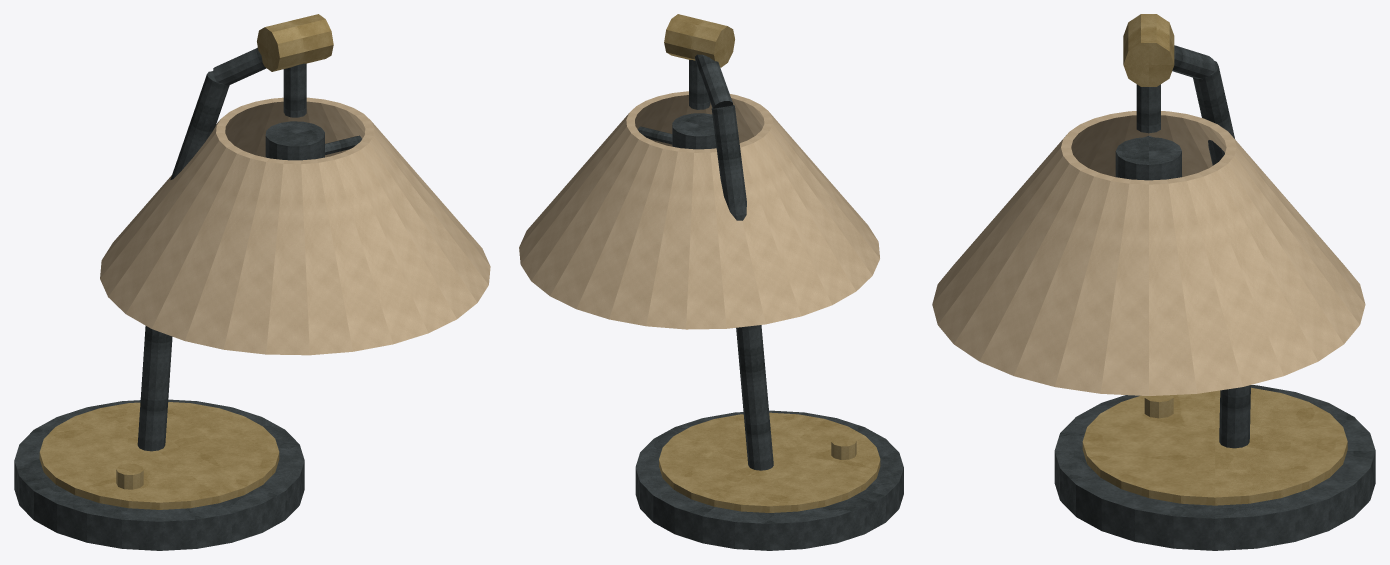
The model's file is ProjectZ_BED26_AdjustableReadingLamp.glb.
The picture shows the model from 3 angles, left to right: view 1: azimuth 30°, elevation 25°; view 2: azimuth 150°, elevation 25°; view 3: azimuth 270°, elevation 25°; orthographic projection. The views are drawn at different scales.
Visible parts, largest first — view 1: RENDER_Lamp_LinenShadedConicalHollowShell, RENDER_Lamp_Base_TrimRing, RENDER_Lamp_WeightedRoundBase, RENDER_Lamp_BrushedSteelVerticalStem, RENDER_Lamp_HingeThroughPin, RENDER_Lamp_Gooseneck_Mid, RENDER_Lamp_Socket_InsideShade, RENDER_Lamp_ShadeStem, RENDER_Lamp_Gooseneck_End, RENDER_Lamp_ToggleButton_Brass; view 2: RENDER_Lamp_LinenShadedConicalHollowShell, RENDER_Lamp_Base_TrimRing, RENDER_Lamp_WeightedRoundBase, RENDER_Lamp_BrushedSteelVerticalStem, RENDER_Lamp_HingeThroughPin, RENDER_Lamp_Gooseneck_Mid, RENDER_Lamp_Socket_InsideShade, RENDER_Lamp_Gooseneck_End, RENDER_Lamp_ShadeStem, RENDER_Lamp_ToggleButton_Brass; view 3: RENDER_Lamp_LinenShadedConicalHollowShell, RENDER_Lamp_Base_TrimRing, RENDER_Lamp_WeightedRoundBase, RENDER_Lamp_HingeThroughPin, RENDER_Lamp_Socket_InsideShade, RENDER_Lamp_BrushedSteelVerticalStem, RENDER_Lamp_Gooseneck_Mid, RENDER_Lamp_ShadeStem, RENDER_Lamp_Gooseneck_End, RENDER_Lamp_ToggleButton_Brass.
Part boxes in pixels (x1,y1,x2,y2): RENDER_Lamp_LinenShadedConicalHollowShell: (100,97,490,355); RENDER_Lamp_Base_TrimRing: (39,402,279,509); RENDER_Lamp_WeightedRoundBase: (14,399,304,550); RENDER_Lamp_BrushedSteelVerticalStem: (137,326,172,451); RENDER_Lamp_HingeThroughPin: (257,14,333,71); RENDER_Lamp_Gooseneck_Mid: (170,71,229,179); RENDER_Lamp_Socket_InsideShade: (265,121,324,160); RENDER_Lamp_ShadeStem: (283,63,306,117); RENDER_Lamp_Gooseneck_End: (213,47,266,85); RENDER_Lamp_ToggleButton_Brass: (116,463,143,489); RENDER_Lamp_LinenShadedConicalHollowShell: (519,91,879,329); RENDER_Lamp_Base_TrimRing: (659,412,880,512); RENDER_Lamp_WeightedRoundBase: (635,410,903,550); RENDER_Lamp_BrushedSteelVerticalStem: (736,325,773,470); RENDER_Lamp_HingeThroughPin: (664,14,734,67); RENDER_Lamp_Gooseneck_Mid: (711,105,746,220); RENDER_Lamp_Socket_InsideShade: (672,113,716,149); RENDER_Lamp_Gooseneck_End: (695,54,732,108); RENDER_Lamp_ShadeStem: (689,60,710,109); RENDER_Lamp_ToggleButton_Brass: (831,436,856,459); RENDER_Lamp_LinenShadedConicalHollowShell: (932,111,1365,395); RENDER_Lamp_Base_TrimRing: (1082,387,1347,505); RENDER_Lamp_WeightedRoundBase: (1054,385,1375,550); RENDER_Lamp_HingeThroughPin: (1123,14,1174,86); RENDER_Lamp_Socket_InsideShade: (1115,137,1181,180); RENDER_Lamp_BrushedSteelVerticalStem: (1219,385,1250,448); RENDER_Lamp_Gooseneck_Mid: (1193,60,1235,165); RENDER_Lamp_ShadeStem: (1136,84,1160,133); RENDER_Lamp_Gooseneck_End: (1172,45,1215,79); RENDER_Lamp_ToggleButton_Brass: (1144,395,1173,418).
Size of the model in its own units: 0.402 by 0.443 by 0.348.
Materials: 4 (4 with a texture image).
